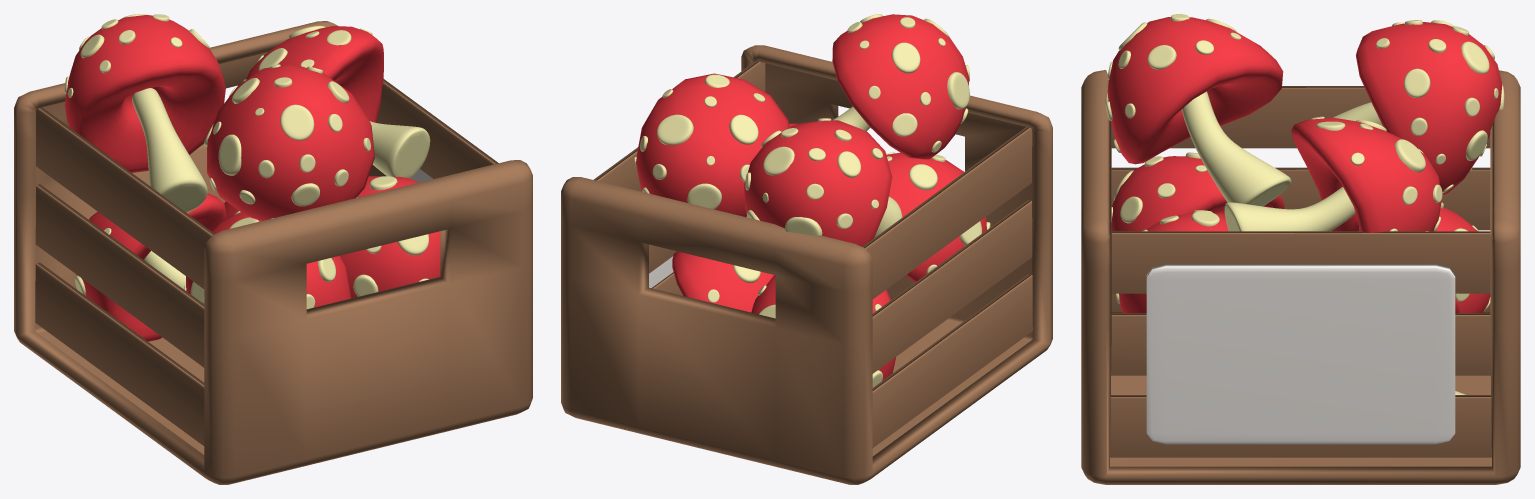
Rendered from HongosBox.fbx.
The picture shows the model from 3 angles, left to right: view 1: azimuth 30°, elevation 25°; view 2: azimuth 150°, elevation 25°; view 3: azimuth 270°, elevation 25°; orthographic projection. The views are drawn at different scales.
Visible parts, largest first — view 1: Cube.004, Cube.005, Cube.010, Cube.009, Cube.003, Cylinder.132, Cylinder.131, Cube.007, Cube.006, Cylinder.044, Cube.002, Cylinder.067 (+4 smaller); view 2: Cube.004, Cube.005, Cube.010, Cube.003, Cube.009, Cylinder.045, Cube.008, Cylinder.130, Cube.002, Cylinder.132, Cylinder.022, Cube.006; view 3: Cube.001, Cube.005, Cube.004, Cube.010, Cube.009, Cube.003, Cube.002, Cylinder.153, Cylinder.044, Cylinder.130, Cylinder.132, Cylinder.045 (+5 smaller).
Boxes of the visible parts, box(x1,y1,x2,y2) form: Cube.004: box(14, 21, 532, 484); Cube.005: box(35, 79, 498, 445); Cube.010: box(207, 64, 374, 220); Cube.009: box(65, 15, 225, 172); Cube.003: box(246, 26, 383, 122); Cylinder.132: box(204, 64, 370, 218); Cylinder.131: box(132, 88, 207, 212); Cube.007: box(340, 176, 440, 298); Cube.006: box(76, 193, 226, 341); Cylinder.044: box(369, 121, 430, 178); Cube.002: box(186, 212, 351, 307); Cylinder.067: box(353, 176, 428, 296); Cube.004: box(561, 45, 1052, 484); Cube.005: box(593, 61, 1032, 447); Cube.010: box(832, 14, 968, 159); Cube.003: box(636, 73, 789, 216); Cube.009: box(744, 120, 892, 246); Cylinder.045: box(634, 74, 765, 217); Cube.008: box(672, 251, 773, 312); Cylinder.130: box(745, 118, 882, 235); Cube.002: box(886, 152, 986, 282); Cylinder.132: box(847, 14, 969, 152); Cylinder.022: box(886, 152, 990, 273); Cube.006: box(751, 275, 895, 380); Cube.001: box(1146, 264, 1455, 444); Cube.005: box(1110, 86, 1491, 457); Cube.004: box(1081, 70, 1520, 484); Cube.010: box(1107, 17, 1283, 164); Cube.009: box(1356, 22, 1502, 195); Cube.003: box(1291, 117, 1441, 232); Cube.002: box(1111, 156, 1284, 231); Cylinder.153: box(1181, 91, 1291, 206); Cylinder.044: box(1224, 186, 1355, 231); Cylinder.130: box(1376, 20, 1504, 193); Cylinder.132: box(1105, 14, 1272, 152); Cylinder.045: box(1311, 116, 1442, 231).
Size of the model in its own units: 161 by 167 by 180.
